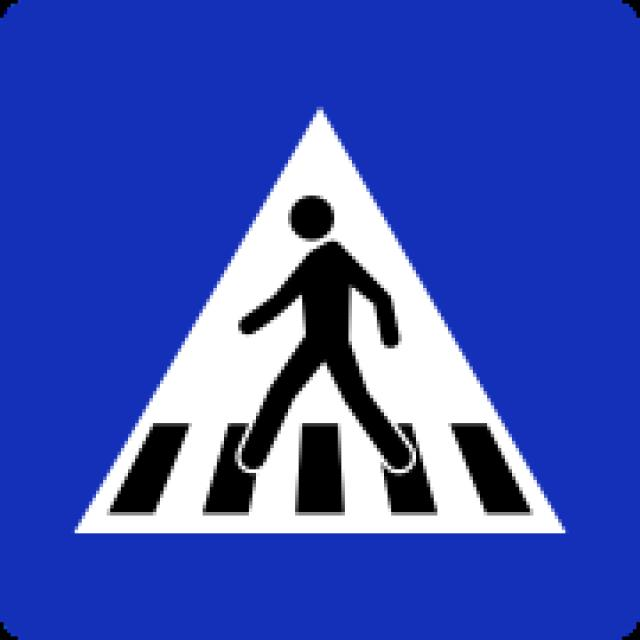Pedestrian crosswalk: (28, 17, 596, 603)
